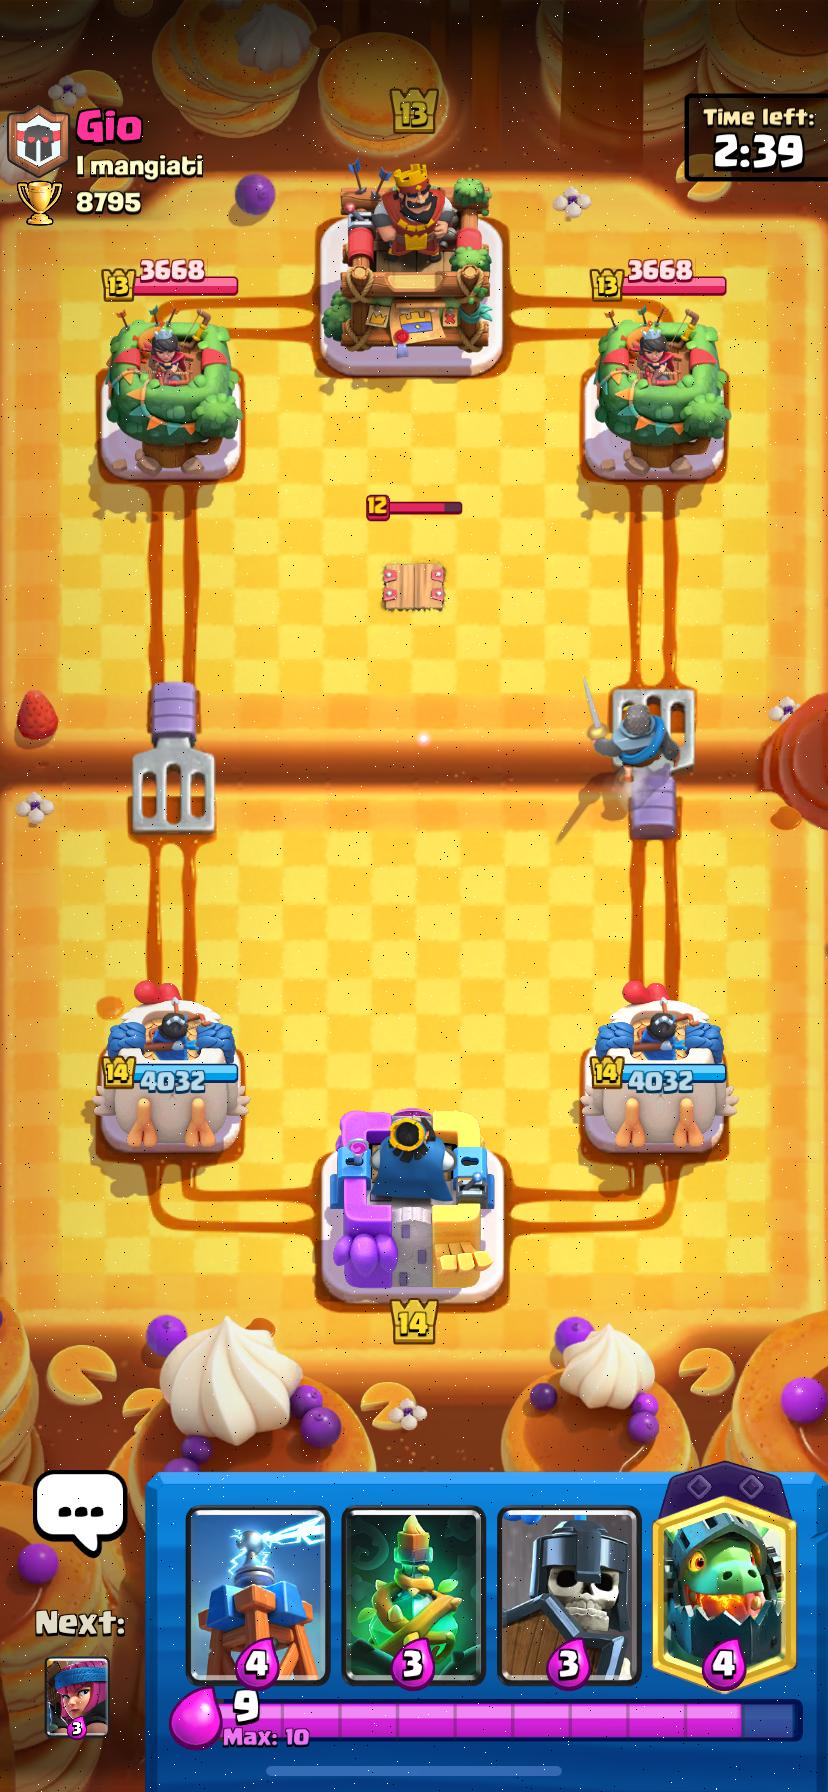EKingTower: (320, 165, 502, 376)
ETesla: (382, 563, 445, 610)
EnemyPrincessTower: (594, 307, 729, 477), (106, 309, 241, 453)
OKnight: (582, 677, 679, 782)
OwnKingTower: (321, 1109, 503, 1303)
OwnPrincessTower: (580, 982, 737, 1154), (93, 983, 248, 1152)
